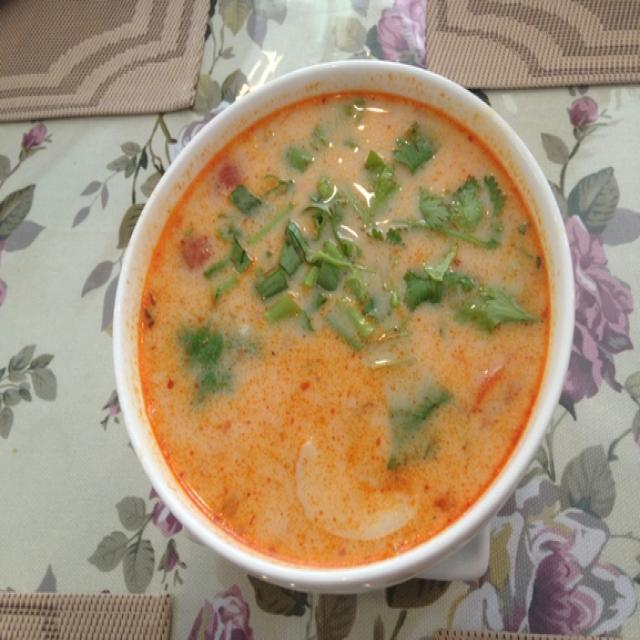汤锅炖物: (78, 55, 579, 591)
